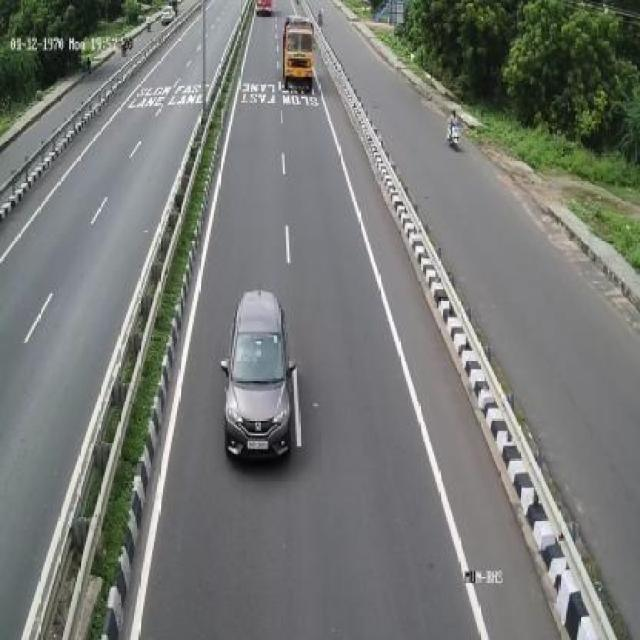car: (222, 285, 298, 466)
